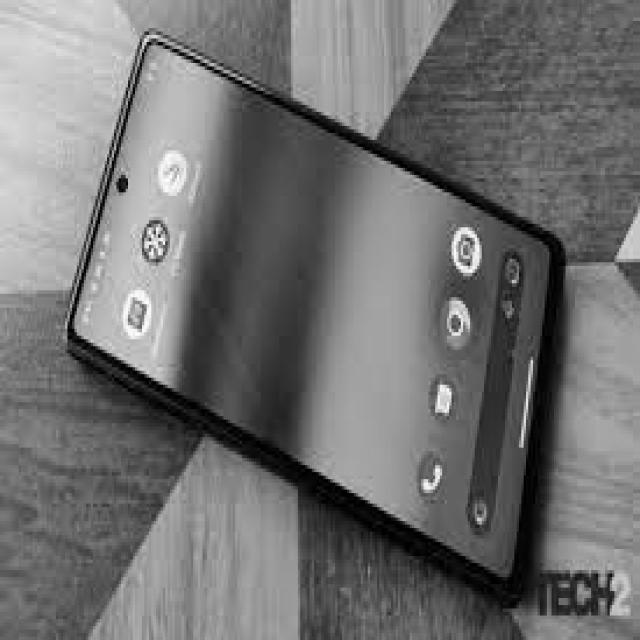No gun_phone: (64, 35, 566, 599)
